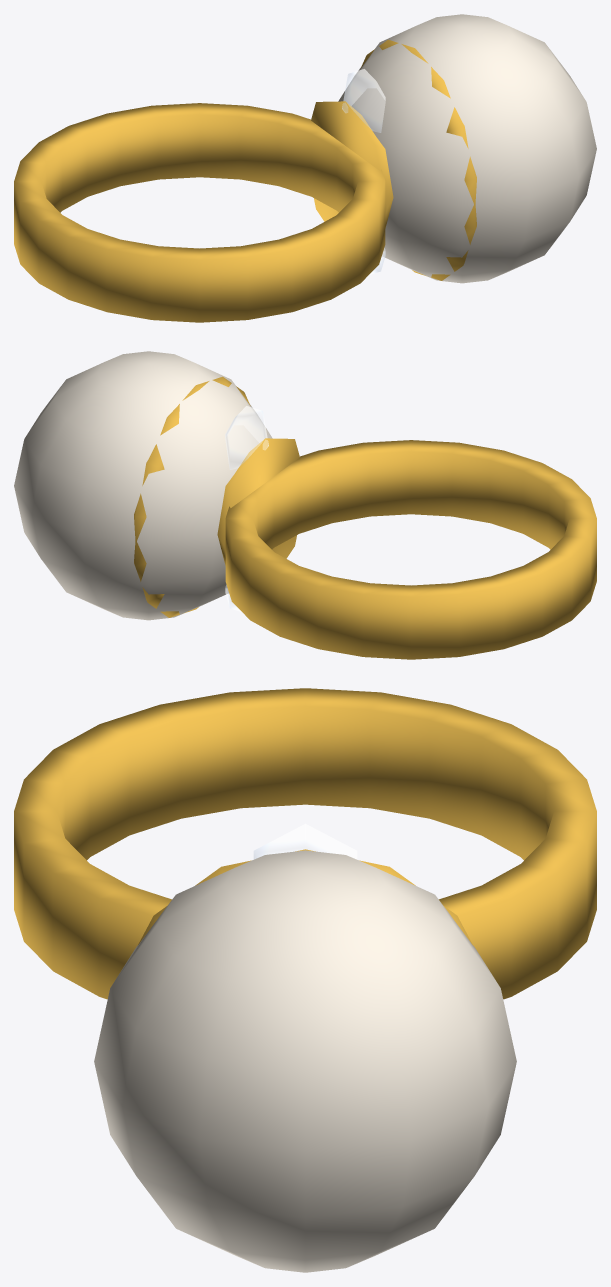
Rendered from pearl_ring.glb.
3 renders of one model, top to bottom at view 1: azimuth 30°, elevation 25°; view 2: azimuth 150°, elevation 25°; view 3: azimuth 270°, elevation 25°, orthographic. The views are drawn at different scales.
Visible parts, largest first — view 1: pearl_ring; view 2: pearl_ring; view 3: pearl_ring.
Part boxes in pixels (box(x1,y1,x2,y2)): pearl_ring: box(14, 14, 596, 322); pearl_ring: box(14, 351, 596, 659); pearl_ring: box(14, 688, 596, 1272).
Size of the model in its own units: 0.0343 by 0.0148 by 0.0204.
